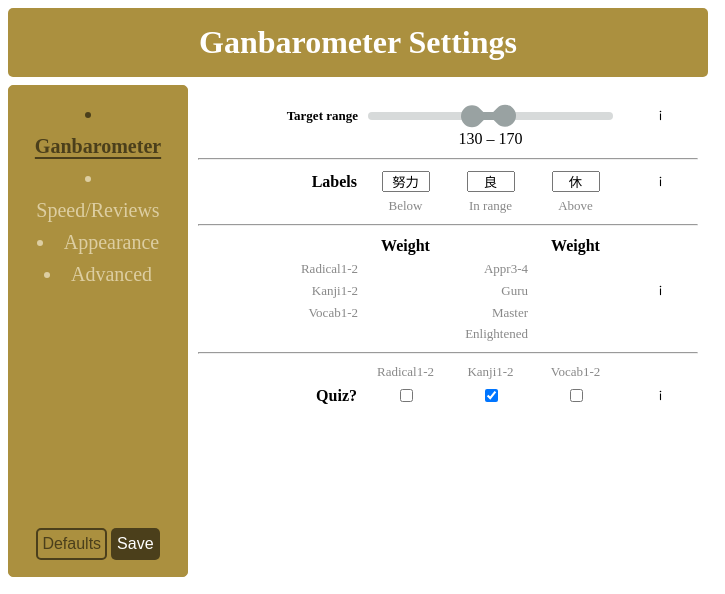
Test: Settings Form › Renders the Advanced dialog when clicked › has a slider for 'MAD cutoff'
What coordinates should you click on to do the following:
click the list item "Advanced"
I would click on:
 (112, 274)
Its box is [71, 263, 152, 285].
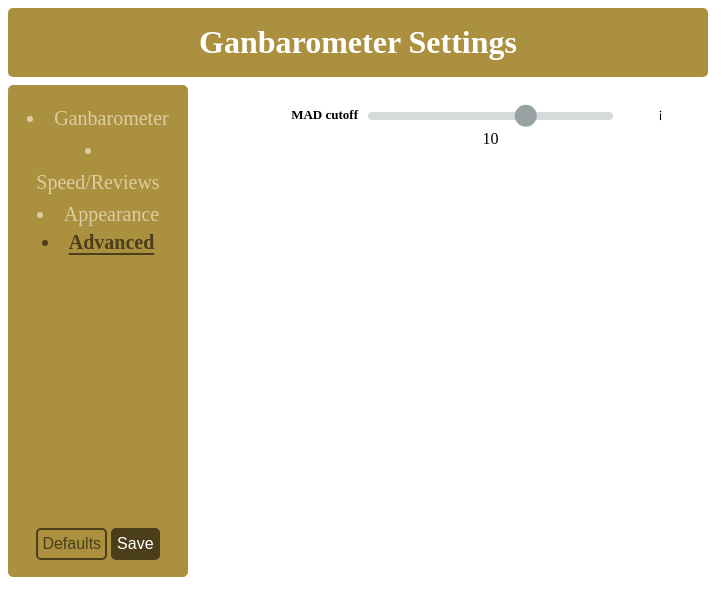
Check: the heading "MAD cutoff" is shown, box [291, 107, 358, 122]
